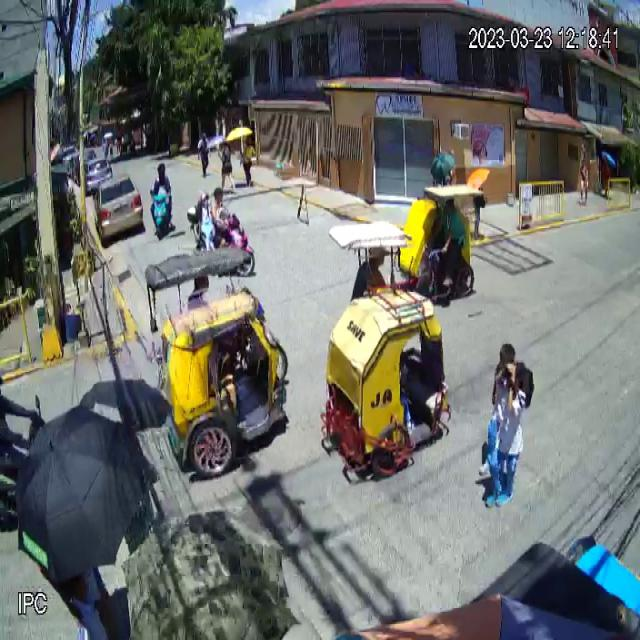Tricycle: (141, 245, 289, 480)
